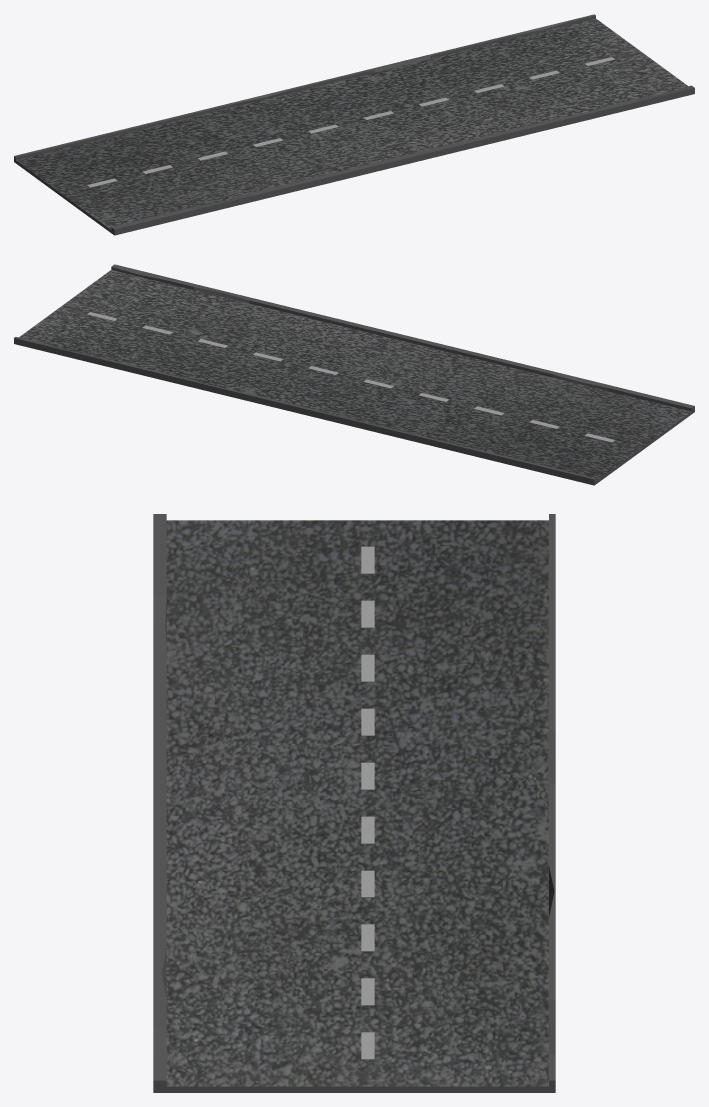
File: SuoraTie2.fbx
The picture shows the model from 3 angles, top to bottom: view 1: azimuth 30°, elevation 25°; view 2: azimuth 150°, elevation 25°; view 3: azimuth 270°, elevation 25°; orthographic projection. The views are drawn at different scales.
Parts seen in each view (by area): view 1: TieSuora; view 2: TieSuora; view 3: TieSuora.
Part boxes in pixels (x1=…): TieSuora: x1=14, y1=14, x2=694, y2=235; TieSuora: x1=14, y1=264, x2=694, y2=485; TieSuora: x1=153, y1=514, x2=555, y2=1092.
Bounding box in the file's own units: 2000 × 21.03 × 600.
